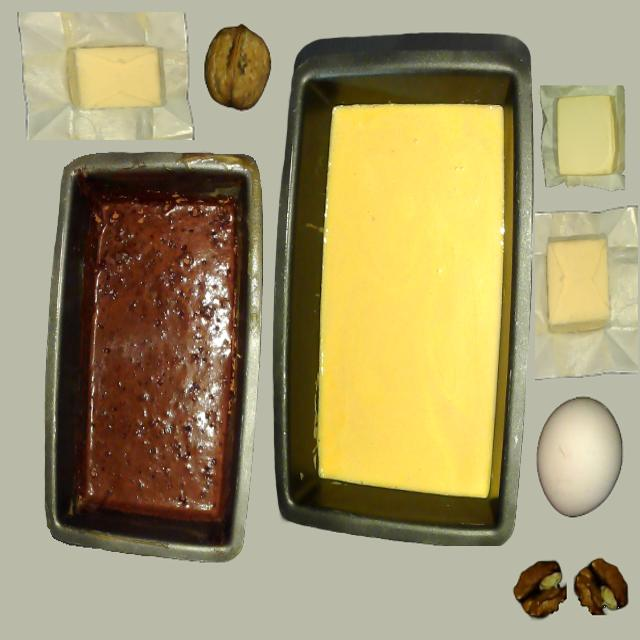Walnut: (204, 24, 271, 110)
